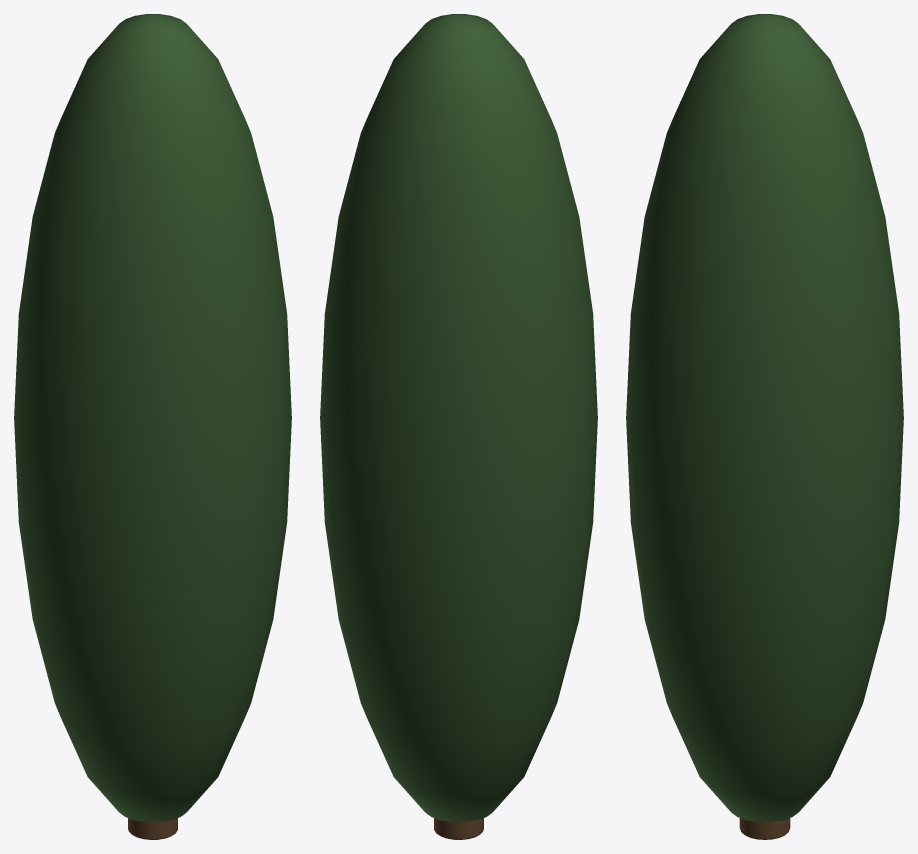
File: veg_cipreste.glb
The picture shows the model from 3 angles, left to right: view 1: azimuth 30°, elevation 25°; view 2: azimuth 150°, elevation 25°; view 3: azimuth 270°, elevation 25°; orthographic projection.
Parts seen in each view (by area): view 1: veg_cipreste; view 2: veg_cipreste; view 3: veg_cipreste.
Boxes of the visible parts, x1,y1,x2,y2 form: veg_cipreste: [14, 14, 291, 839]; veg_cipreste: [320, 14, 597, 839]; veg_cipreste: [626, 14, 903, 839].
Size of the model in its own units: 2.17 by 7.12 by 2.2.
